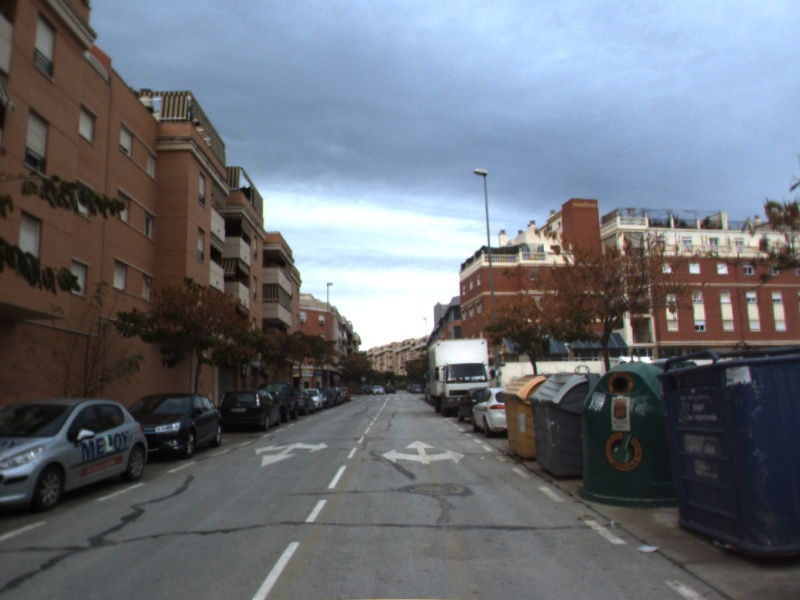STRAIGHT_LEFT_RIGHT: (380, 438, 467, 466)
